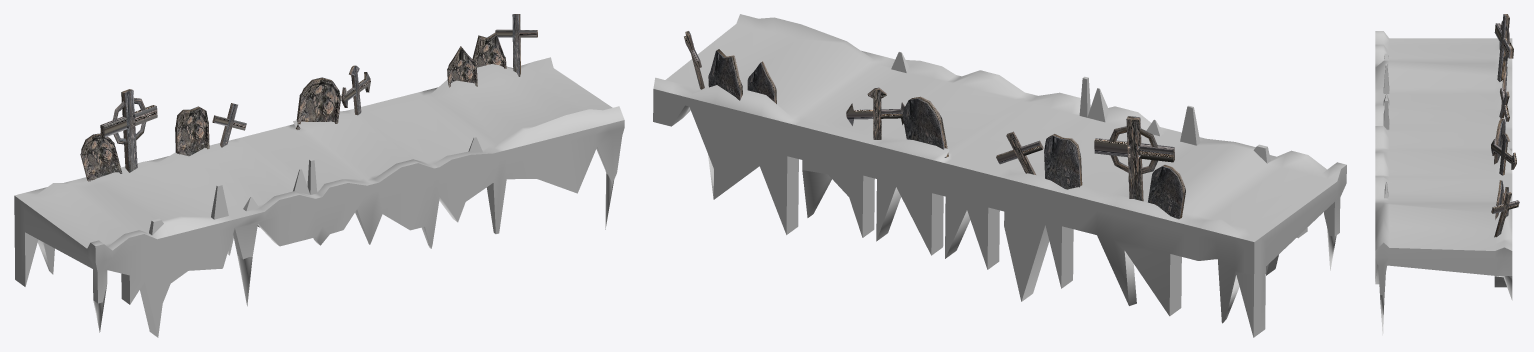
The model's file is large.fbx.
The picture shows the model from 3 angles, left to right: view 1: azimuth 30°, elevation 25°; view 2: azimuth 150°, elevation 25°; view 3: azimuth 270°, elevation 25°; orthographic projection. The views are drawn at different scales.
Visible parts, largest first — view 1: polySurface94; view 2: polySurface94; view 3: polySurface94.
Boxes of the visible parts, left/top/right/bottom form: polySurface94: left=14, top=14, right=624, bottom=337; polySurface94: left=653, top=14, right=1346, bottom=337; polySurface94: left=1375, top=14, right=1519, bottom=335.
Size of the model in its own units: 451 by 149 by 126.
